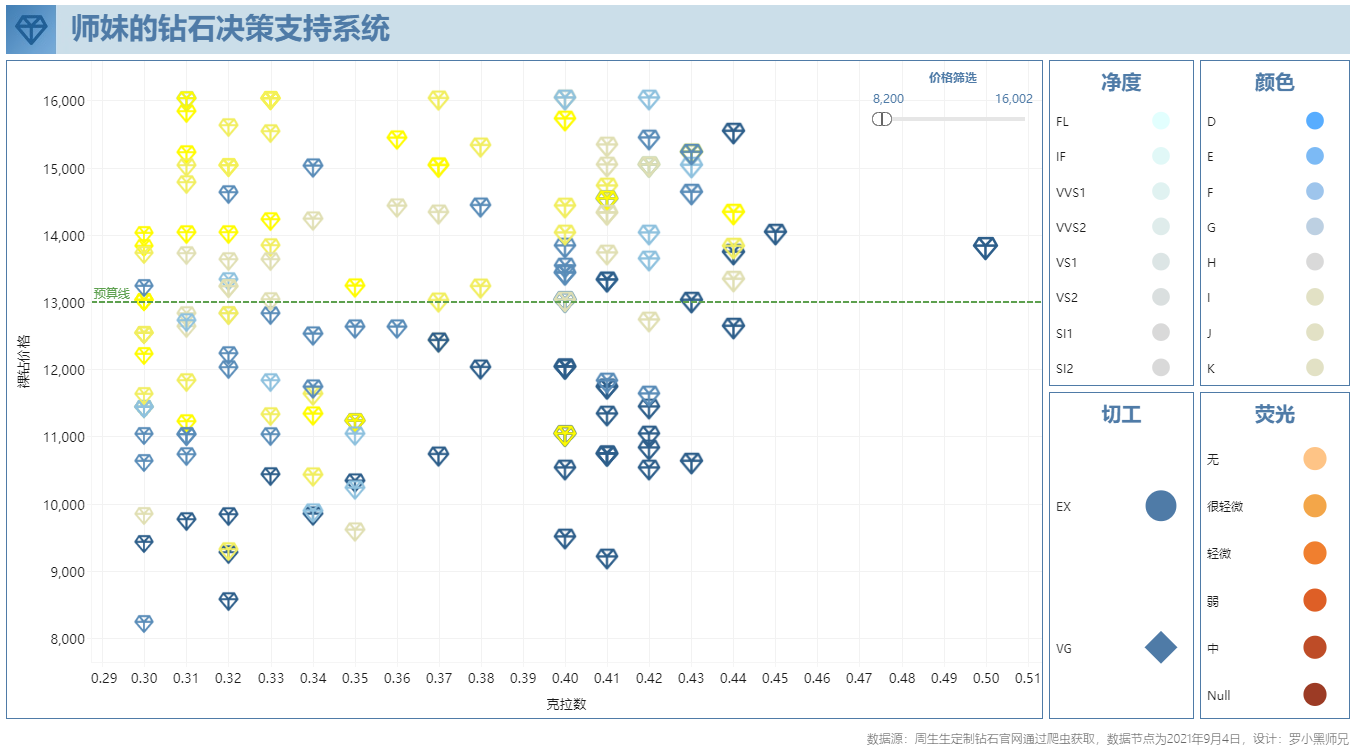

The page's visual inventory and layout, read from the dashboard file:
{"tool":"tableau","page":{"name":"仪表板 1","canvas":[1366,768],"ordinal":0},"visuals":[{"type":"image","param":"C:/Users/lxh19/Desktop/getDiamond/header.png","box":[8,8,1350,54.6]},{"type":"text","box":[76,14,333,37]},{"type":"worksheet","title":"工作表 1","mark":"Shape","rows":["price"],"cols":["dsCarat"],"box":[8,62.6,1043,665.4]},{"type":"worksheet","title":"工作表 2","mark":"Circle","rows":["dsClarity - 拆分 2"],"box":[1051,62.6,151,332.7]},{"type":"worksheet","title":"工作表 3","mark":"Circle","rows":["dsColour - 拆分 2"],"box":[1202,62.6,156,332.7]},{"type":"filter","title":"工作表 1","param":"[federated.17nnhuf17q7jch17ecte90ddmmq4].[avg:price:qk]","box":[874,76,168,61]},{"type":"worksheet","title":"工作表 4","mark":"Shape","rows":["dsCut - 拆分 2"],"box":[1051,395.3,151,332.7]},{"type":"worksheet","title":"工作表 5","mark":"Shape","rows":["dsFluor - 拆分 2"],"box":[1202,395.3,156,332.7]},{"type":"text","box":[8,728,1350,32]}]}

Visuals, with their boxes in screenshot pixels (x1, y1, x2, y2), scaled from the page's 1366x768 canvas onto the 1357x752 screenshot:
image: [8, 8, 1349, 61]
text: [75, 14, 406, 50]
"工作表 1" worksheet (Shape marks): [8, 61, 1044, 713]
"工作表 2" worksheet (Circle marks): [1044, 61, 1194, 387]
"工作表 3" worksheet (Circle marks): [1194, 61, 1349, 387]
"工作表 1" filter: [868, 74, 1035, 134]
"工作表 4" worksheet (Shape marks): [1044, 387, 1194, 713]
"工作表 5" worksheet (Shape marks): [1194, 387, 1349, 713]
text: [8, 713, 1349, 744]
